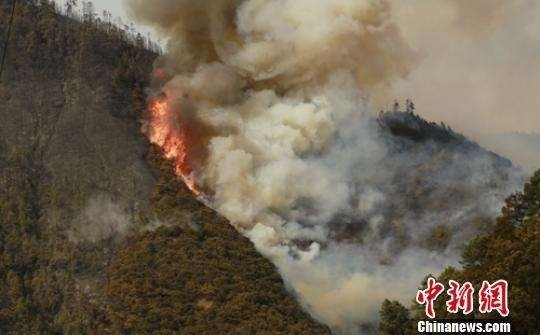fire: (144, 94, 206, 192)
